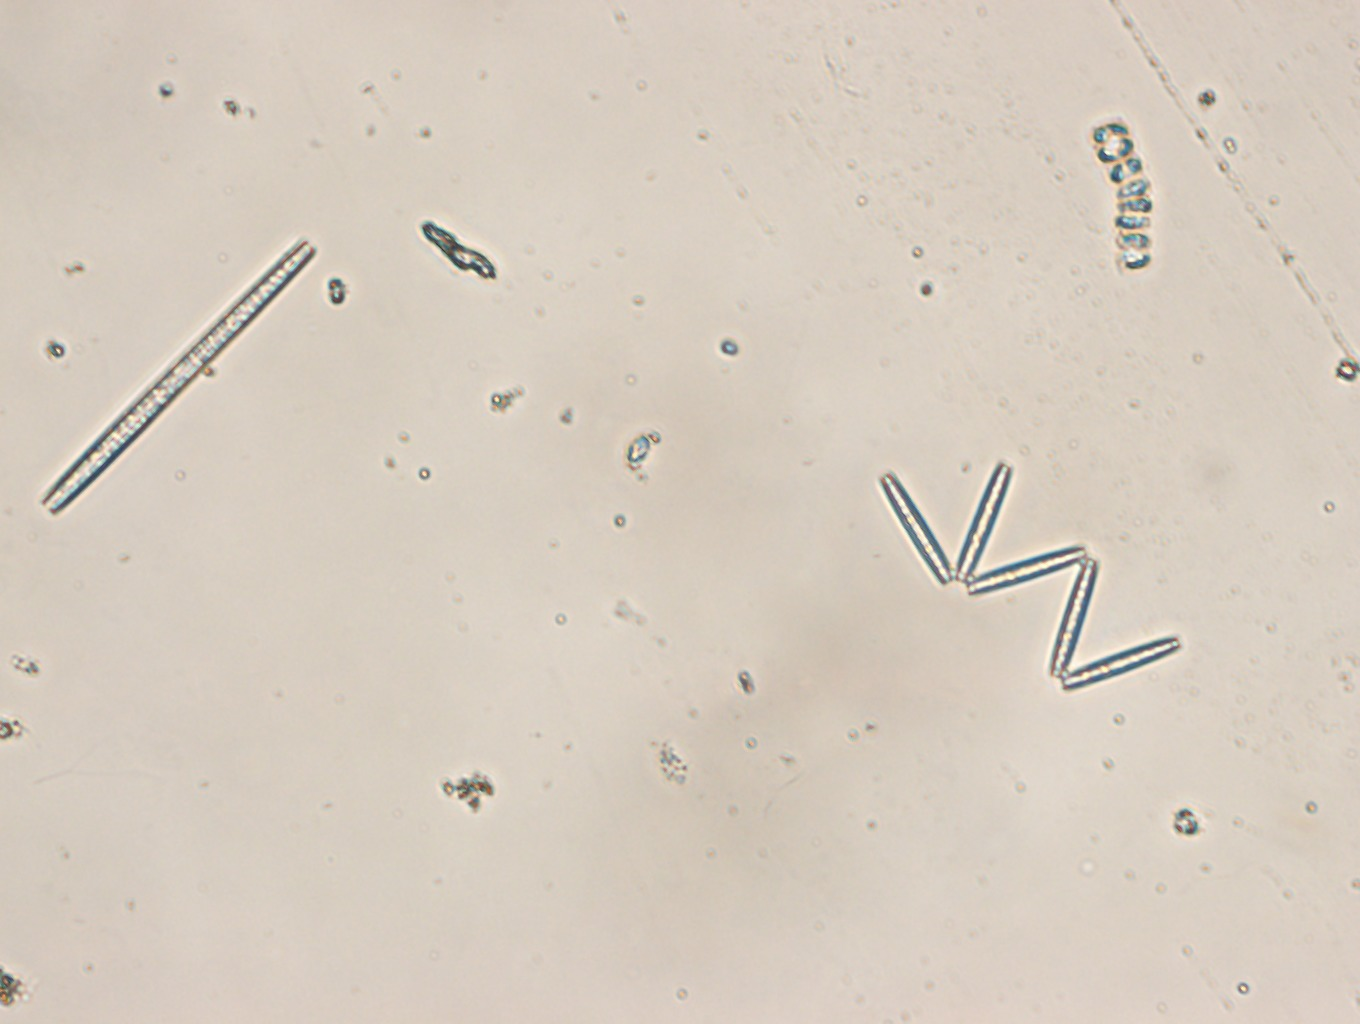skeletonema: (1089, 120, 1154, 272)
thalassionema nitzschioides: (40, 241, 315, 513), (878, 463, 1182, 692)
